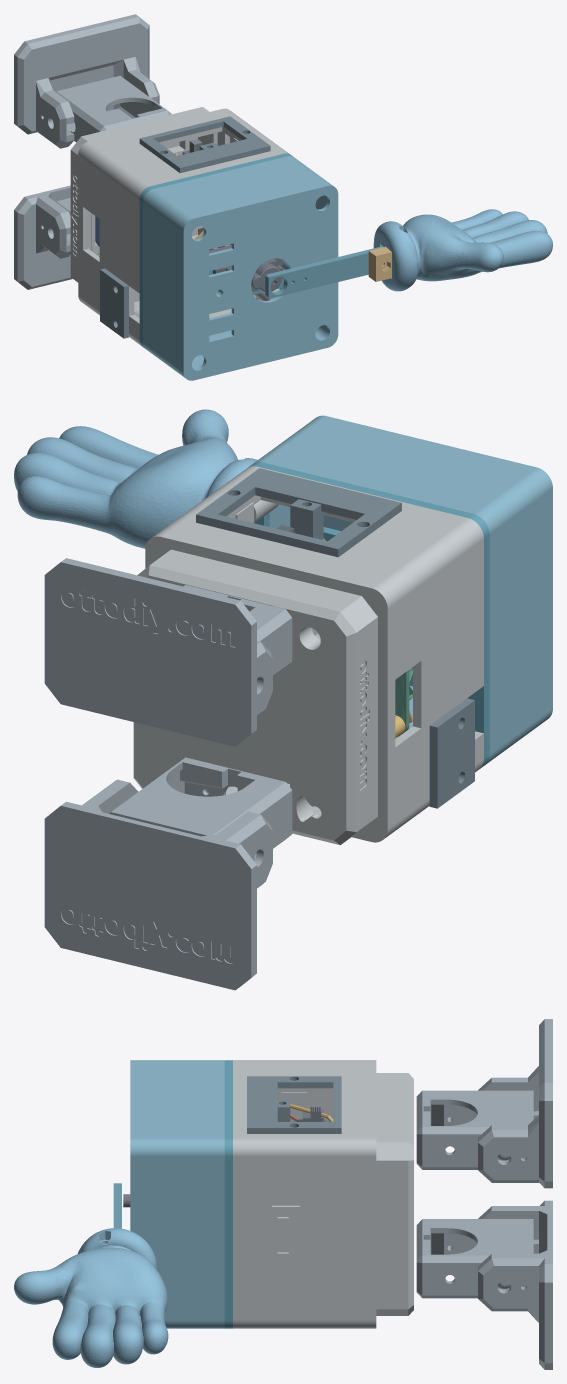
File: 装配_palm_简化审阅.glb
3 views of the same model, one above another, from view 1: azimuth 30°, elevation 25°; view 2: azimuth 150°, elevation 25°; view 3: azimuth 270°, elevation 25° (orthographic). The views are drawn at different scales.
Parts seen in each view (by area): view 1: 12_巴掌可拆圆角头罩, 01_共用身体_下部原Otto基准, R_foot_1, P_04_完整手掌75mm_带接口, R_foot_-1, R_Leg_1, 03_开关可换安装面板, P_05_完整连接杆_杆距51mm, 04_充电维护口盲板_待模块确认, 10_巴掌定位底座, R10_巴掌舵机PG002外形参考, P_02_插入连接块; view 2: 01_共用身体_下部原Otto基准, R_foot_-1, R_foot_1, 12_巴掌可拆圆角头罩, P_04_完整手掌75mm_带接口, R_Leg_-1, 03_开关可换安装面板, 04_充电维护口盲板_待模块确认, 10_巴掌定位底座, R_Leg_1, R01_原厂接收组合; view 3: 01_共用身体_下部原Otto基准, 12_巴掌可拆圆角头罩, P_04_完整手掌75mm_带接口, R_Leg_1, R_Leg_-1, R_foot_1, R_foot_-1, 03_开关可换安装面板, 10_巴掌定位底座.
Part boxes in pixels (left/top/right/bottom): 12_巴掌可拆圆角头罩: left=143, top=156, right=338, bottom=380; 01_共用身体_下部原Otto基准: left=70, top=107, right=288, bottom=345; R_foot_1: left=14, top=14, right=159, bottom=148; P_04_完整手掌75mm_带接口: left=373, top=209, right=552, bottom=291; R_foot_-1: left=14, top=185, right=72, bottom=289; R_Leg_1: left=56, top=76, right=171, bottom=142; 03_开关可换安装面板: left=139, top=116, right=270, bottom=172; P_05_完整连接杆_杆距51mm: left=265, top=246, right=383, bottom=298; 04_充电维护口盲板_待模块确认: left=100, top=268, right=128, bottom=338; 10_巴掌定位底座: left=139, top=153, right=292, bottom=348; R10_巴掌舵机PG002外形参考: left=209, top=245, right=282, bottom=291; P_02_插入连接块: left=368, top=247, right=391, bottom=281; 01_共用身体_下部原Otto基准: left=133, top=466, right=483, bottom=845; R_foot_-1: left=44, top=779, right=272, bottom=990; R_foot_1: left=44, top=558, right=272, bottom=746; 12_巴掌可拆圆角头罩: left=254, top=415, right=552, bottom=764; P_04_完整手掌75mm_带接口: left=14, top=409, right=257, bottom=548; R_Leg_-1: left=109, top=757, right=292, bottom=848; 03_开关可换安装面板: left=196, top=468, right=401, bottom=557; 04_充电维护口盲板_待模块确认: left=429, top=698, right=474, bottom=808; 10_巴掌定位底座: left=248, top=462, right=489, bottom=768; R_Leg_1: left=183, top=585, right=292, bottom=675; R01_原厂接收组合: left=395, top=668, right=412, bottom=734; 01_共用身体_下部原Otto基准: left=233, top=1060, right=413, bottom=1328; 12_巴掌可拆圆角头罩: left=130, top=1060, right=224, bottom=1328; P_04_完整手掌75mm_带接口: left=14, top=1228, right=168, bottom=1367; R_Leg_1: left=416, top=1090, right=533, bottom=1169; R_Leg_-1: left=416, top=1219, right=533, bottom=1298; R_foot_1: left=478, top=1019, right=552, bottom=1188; R_foot_-1: left=478, top=1200, right=552, bottom=1369; 03_开关可换安装面板: left=247, top=1076, right=341, bottom=1133; 10_巴掌定位底座: left=224, top=1060, right=232, bottom=1328.
Bounding box in the file's own units: 171 × 114 × 194.
